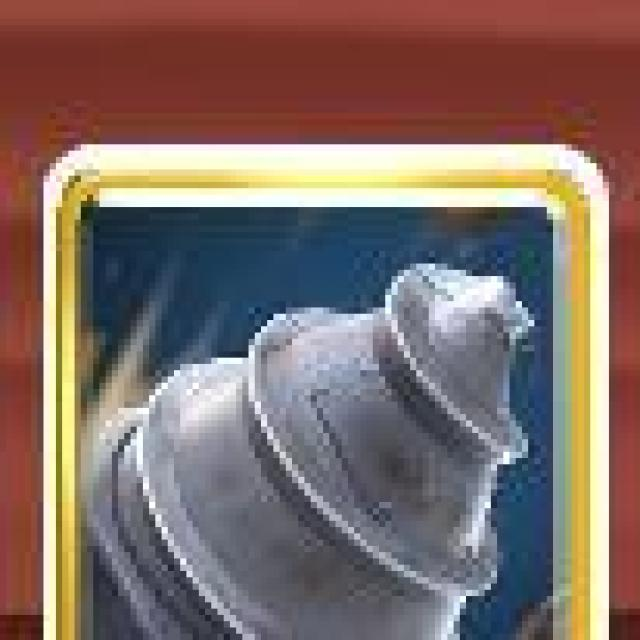Goblin_Drill: (45, 142, 609, 640)
